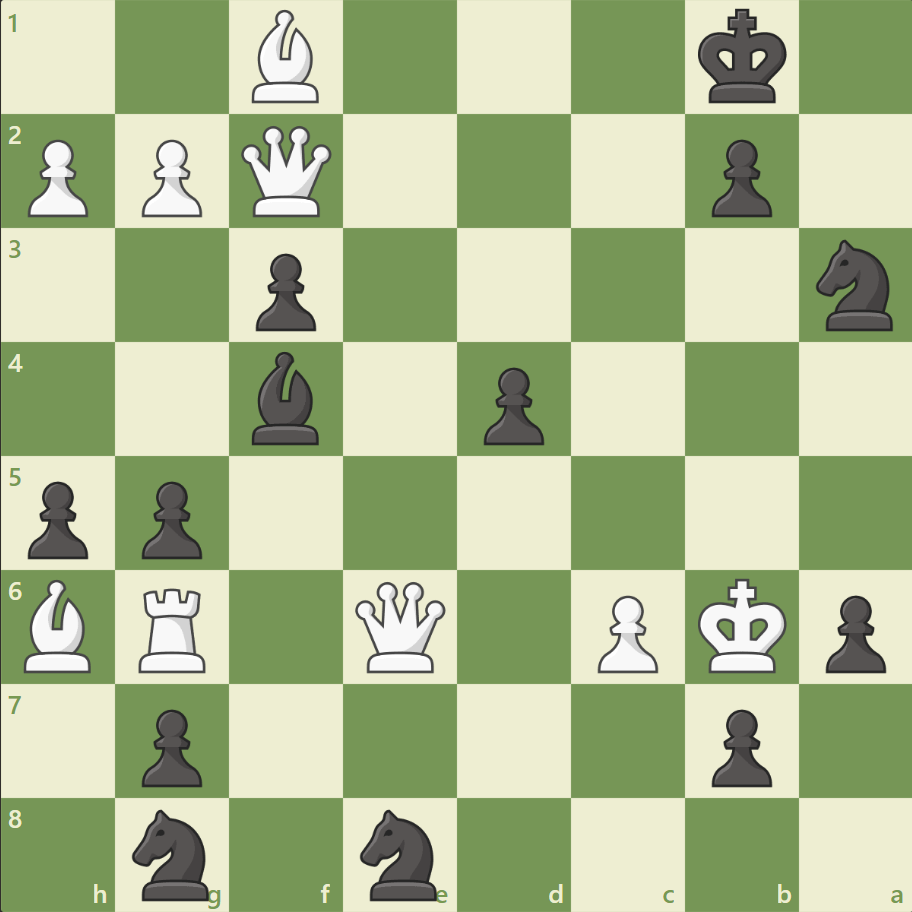B: (244, 6, 328, 109), (17, 574, 101, 676)
K: (692, 571, 792, 679)
P: (133, 132, 208, 223), (20, 132, 95, 223), (588, 586, 662, 677)
Q: (351, 576, 450, 676), (237, 122, 336, 222)
R: (133, 579, 215, 676)
b: (244, 347, 328, 449)
k: (692, 4, 792, 112)
n: (351, 802, 449, 904), (124, 802, 222, 904), (806, 234, 903, 337)
p: (701, 700, 776, 791), (133, 700, 208, 791), (133, 473, 208, 564), (20, 473, 95, 564), (474, 359, 549, 450), (247, 246, 322, 337), (701, 132, 776, 223), (815, 586, 889, 677)
